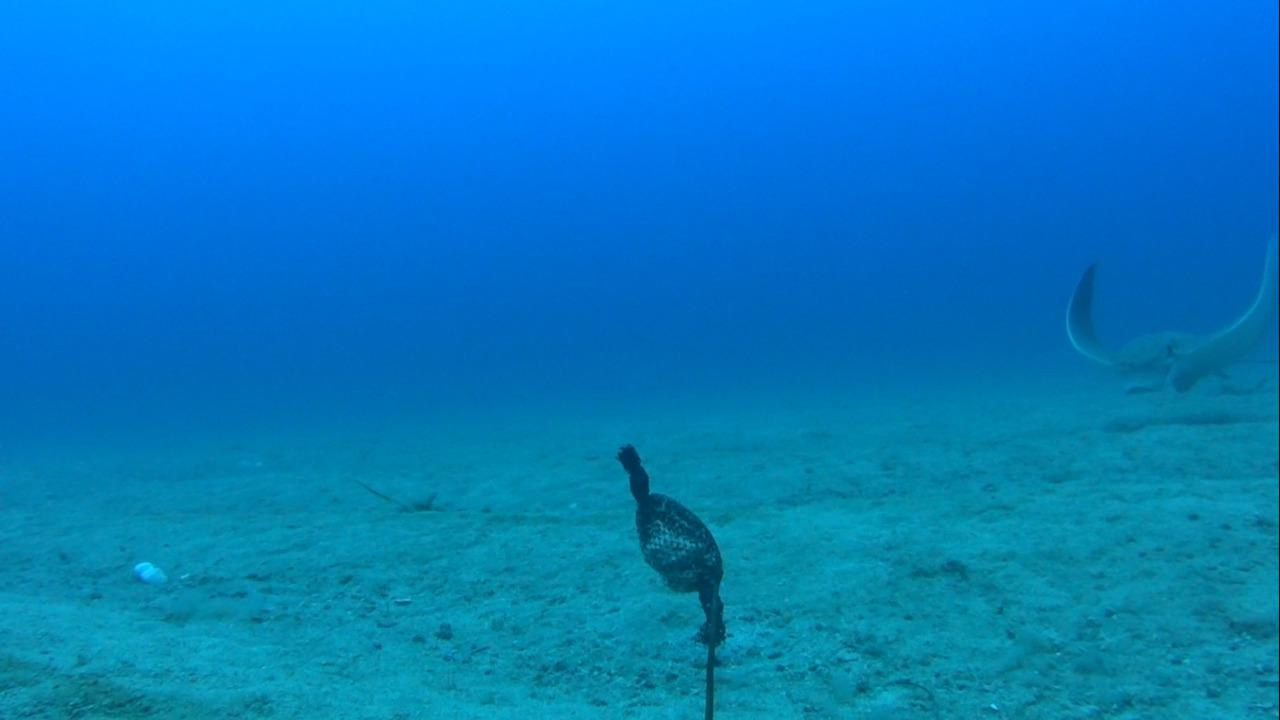myliobatis: (1060, 228, 1279, 405)
